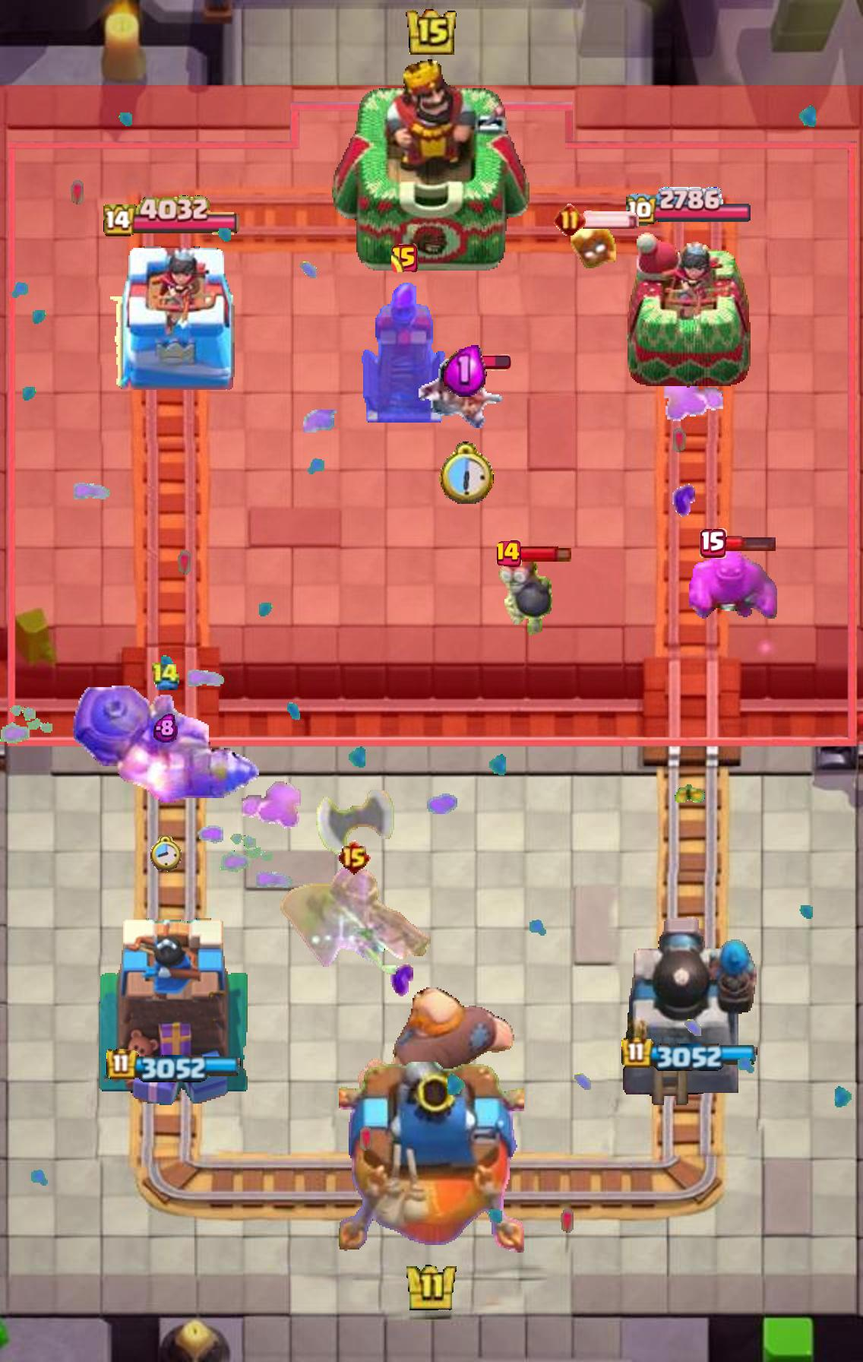elixir: (443, 342, 487, 397), (153, 713, 178, 743)
